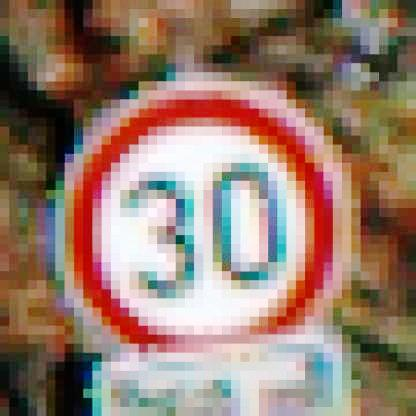Speed Limit -30-: (54, 73, 350, 369)
